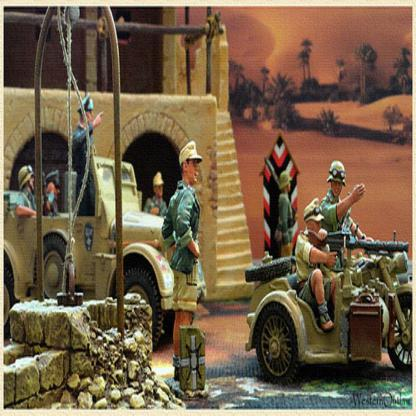face: (188, 152, 200, 184), (311, 216, 323, 238), (333, 176, 343, 197), (27, 173, 36, 192), (53, 181, 61, 201), (87, 107, 94, 126), (156, 182, 164, 197), (288, 179, 292, 193)
